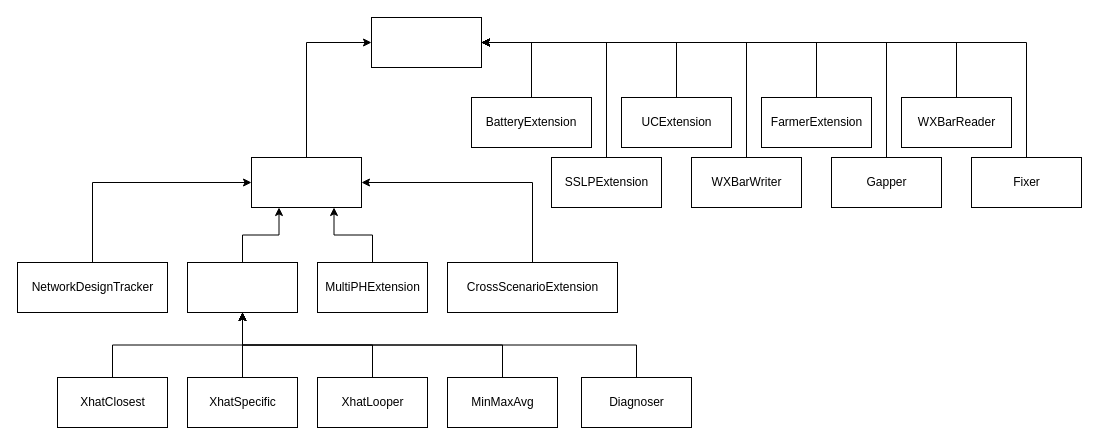
Some shapes in this 1099 by 445 pixel diagram are drawn without their labels. The shapes that lost their labels are listed below. From the top down, each one's box as (x1, y1, x2, y2) in pixels, then its label:
(370, 16, 482, 68): Extension
(250, 156, 362, 208): PHExtension
(186, 262, 298, 312): XhatBase
